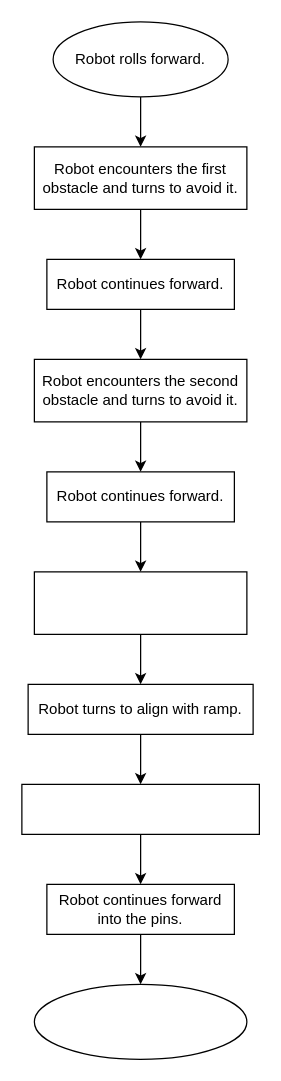
This 281x1081 diagram has some shape labels left out. The shapes that lost their labels are listed below. From the top down, each one's centre as x and y in pixels, then its label:
point 140,602: Robot encounters the third obstacle and turns to avoid it.
point 140,808: Robot rolls forward, picks up speed, and goes over the ramp.
point 140,1021: Robot stops after knocking down the pins.
